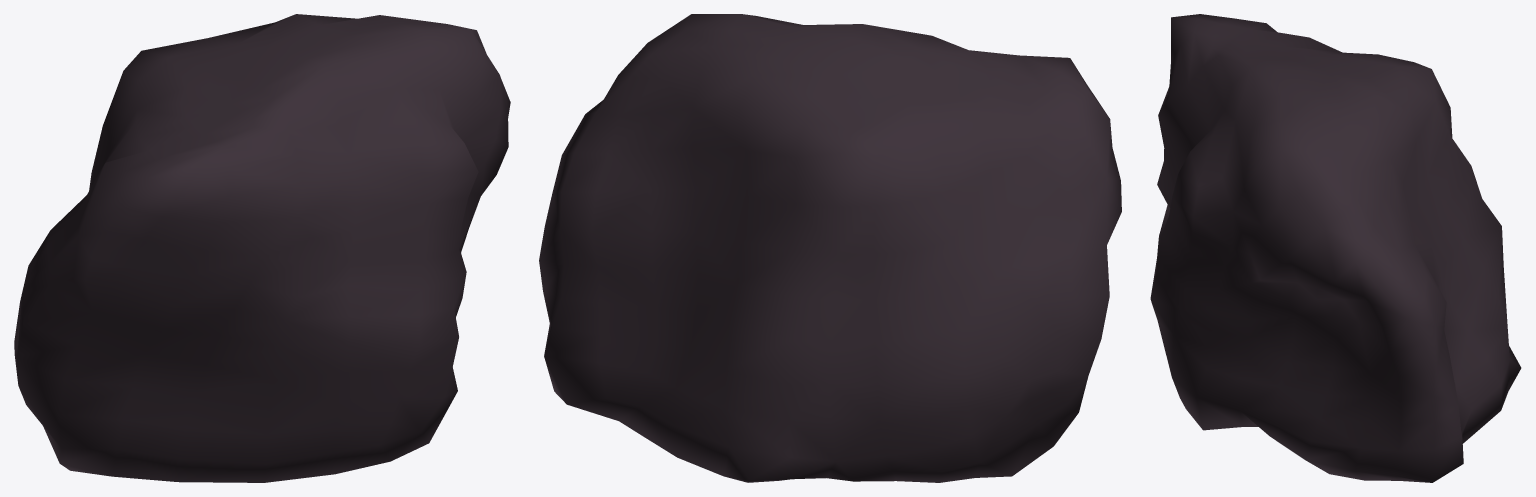
Rendered from Rock.001.fbx.
The picture shows the model from 3 angles, left to right: view 1: azimuth 30°, elevation 25°; view 2: azimuth 150°, elevation 25°; view 3: azimuth 270°, elevation 25°; orthographic projection. The views are drawn at different scales.
Parts seen in each view (by area): view 1: Rock.001; view 2: Rock.001; view 3: Rock.001.
Boxes of the visible parts, <box> form: Rock.001: <box>14,14,510,482</box>; Rock.001: <box>539,14,1121,482</box>; Rock.001: <box>1150,14,1521,482</box>.
Size of the model in its own units: 1.3 by 0.9125 by 0.9304.
